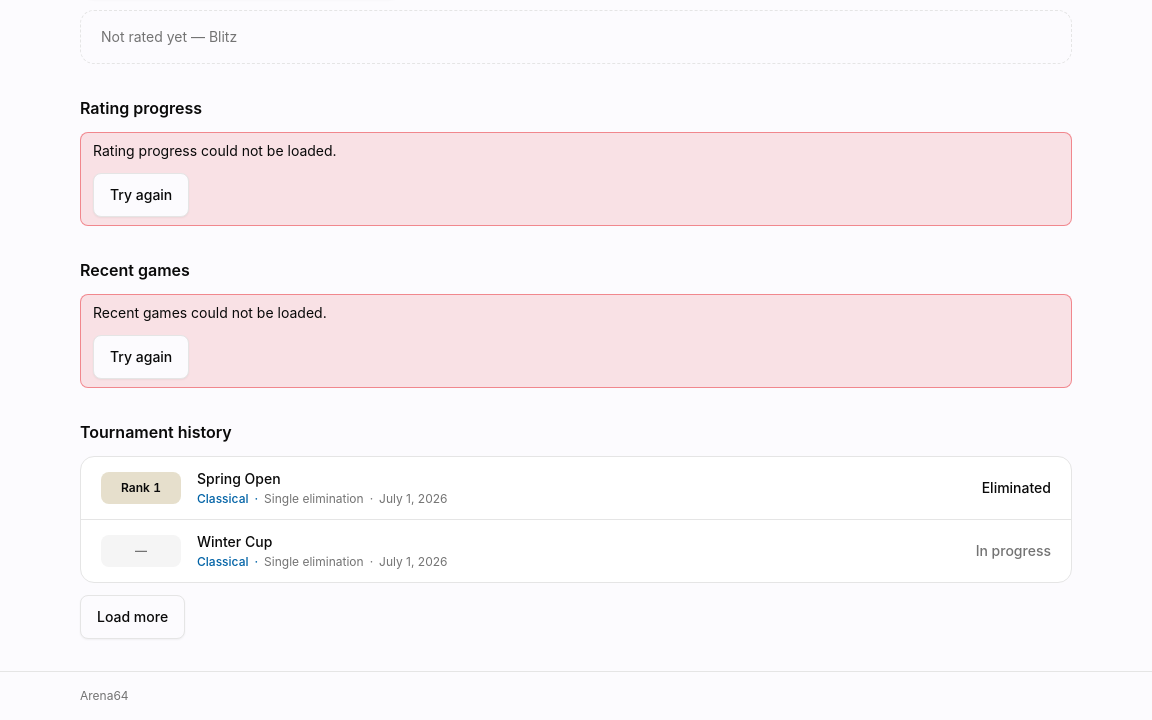
Test case: tournament history › pages by cursor and never fetches a tournament row by row
(page scrolled)
expect the link "Spring Open" is shown: met, box x1=197 y1=470 x2=281 y2=487
expect the text "In progress" is shown: met, box x1=976 y1=541 x2=1051 y2=561
Click the button "Load more": (133, 617) x1=80 y1=595 x2=185 y2=639
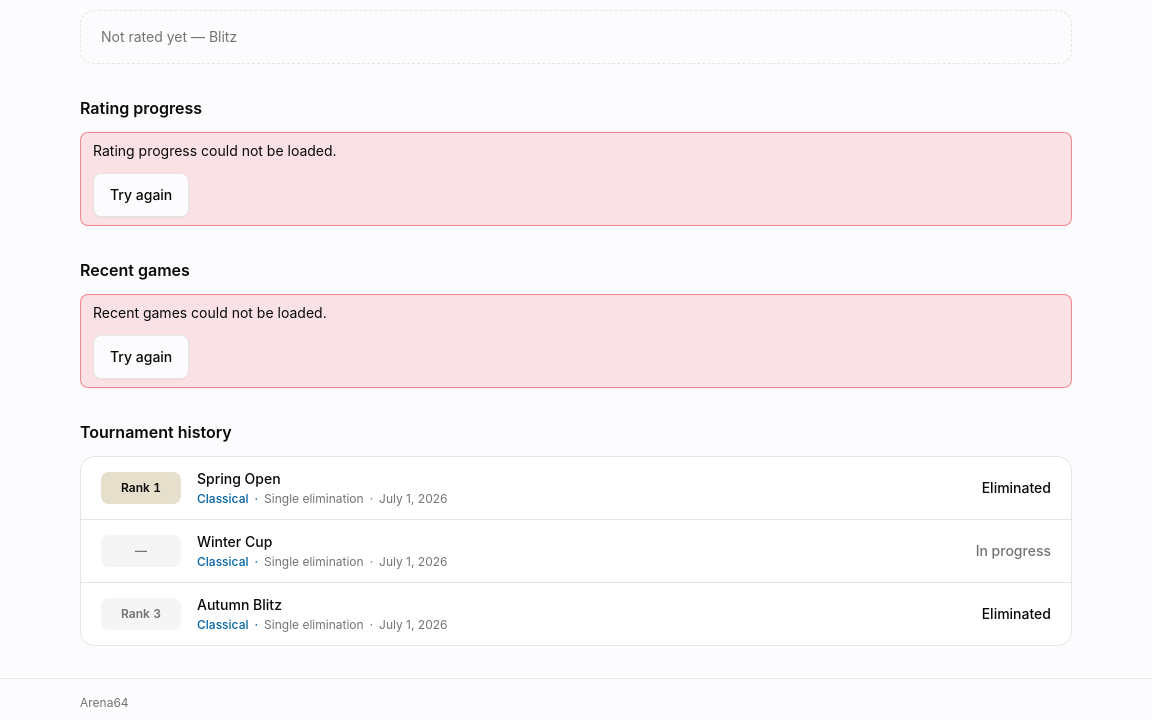
expect the link "Autumn Blitz" is shown: met, box x1=197 y1=596 x2=282 y2=613
